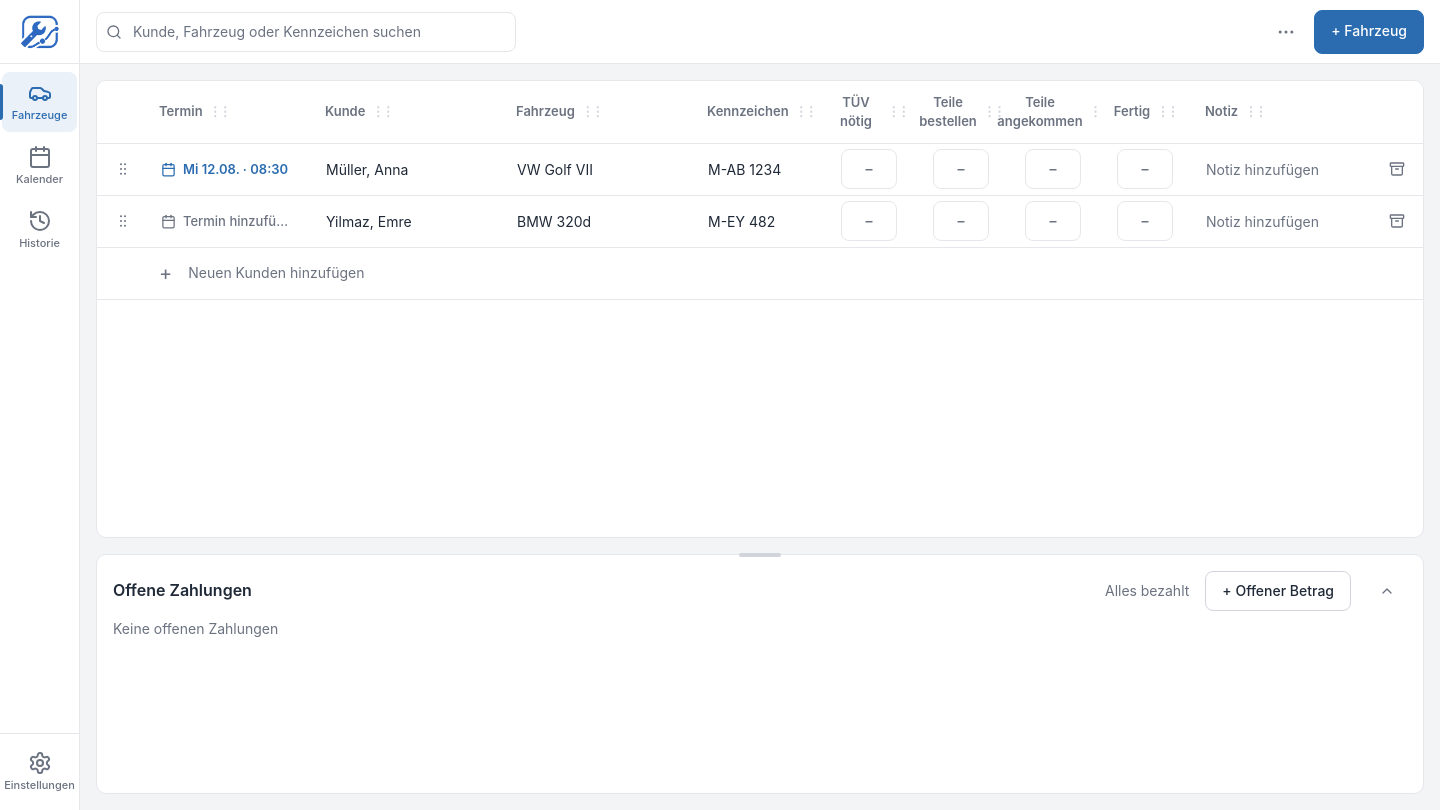
Scenario: Fahrzeugtermine › entfernt einen bestehenden Termin
Expected: the 1st field showing "Müller, Anna" is shown, x1=317 y1=149 x2=496 y2=189
Click the button with aria-label "Termin für Müller, Anna".
click(228, 169)  # box x1=151 y1=149 x2=305 y2=189
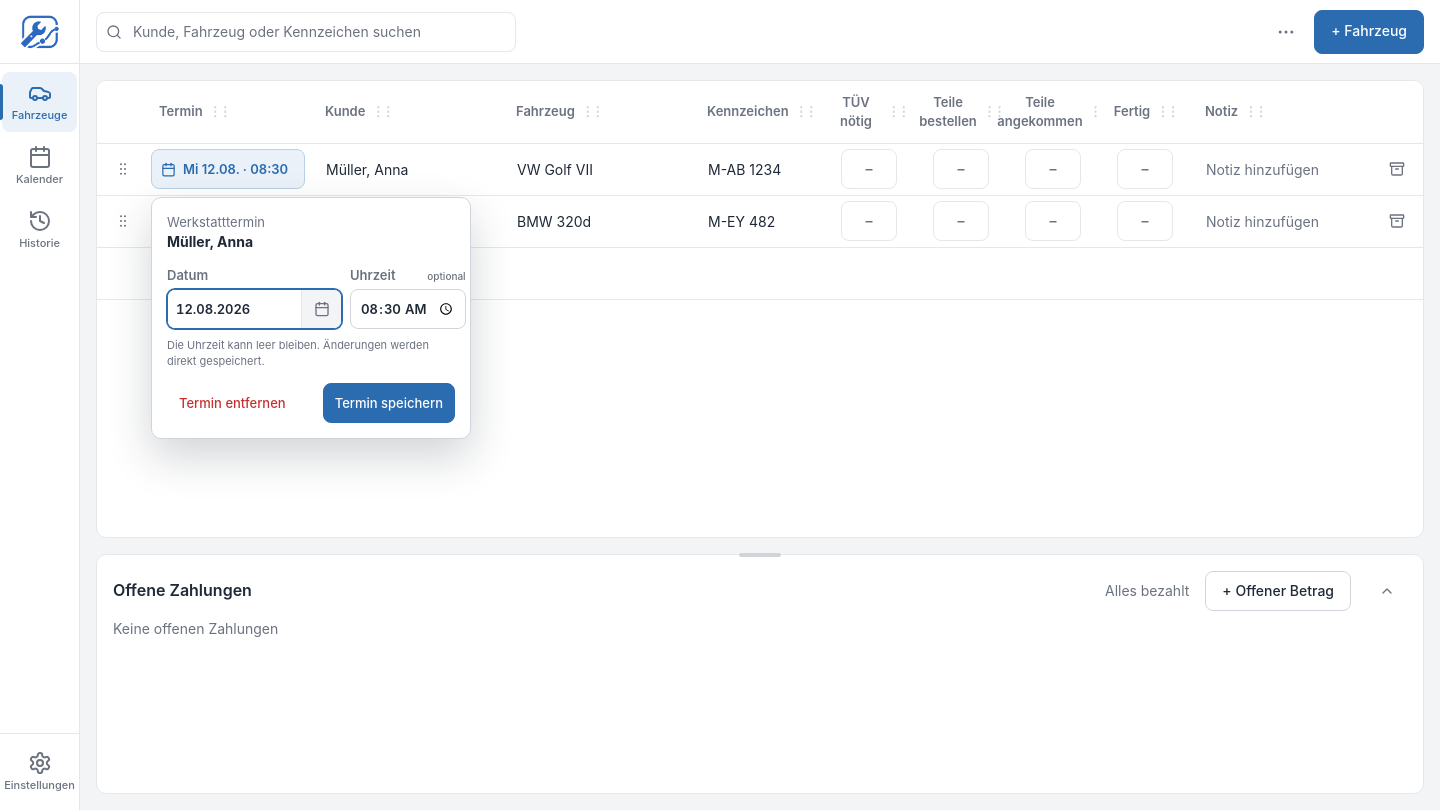
Click the button "Termin entfernen".
click(232, 403)  # box x1=167 y1=383 x2=298 y2=423
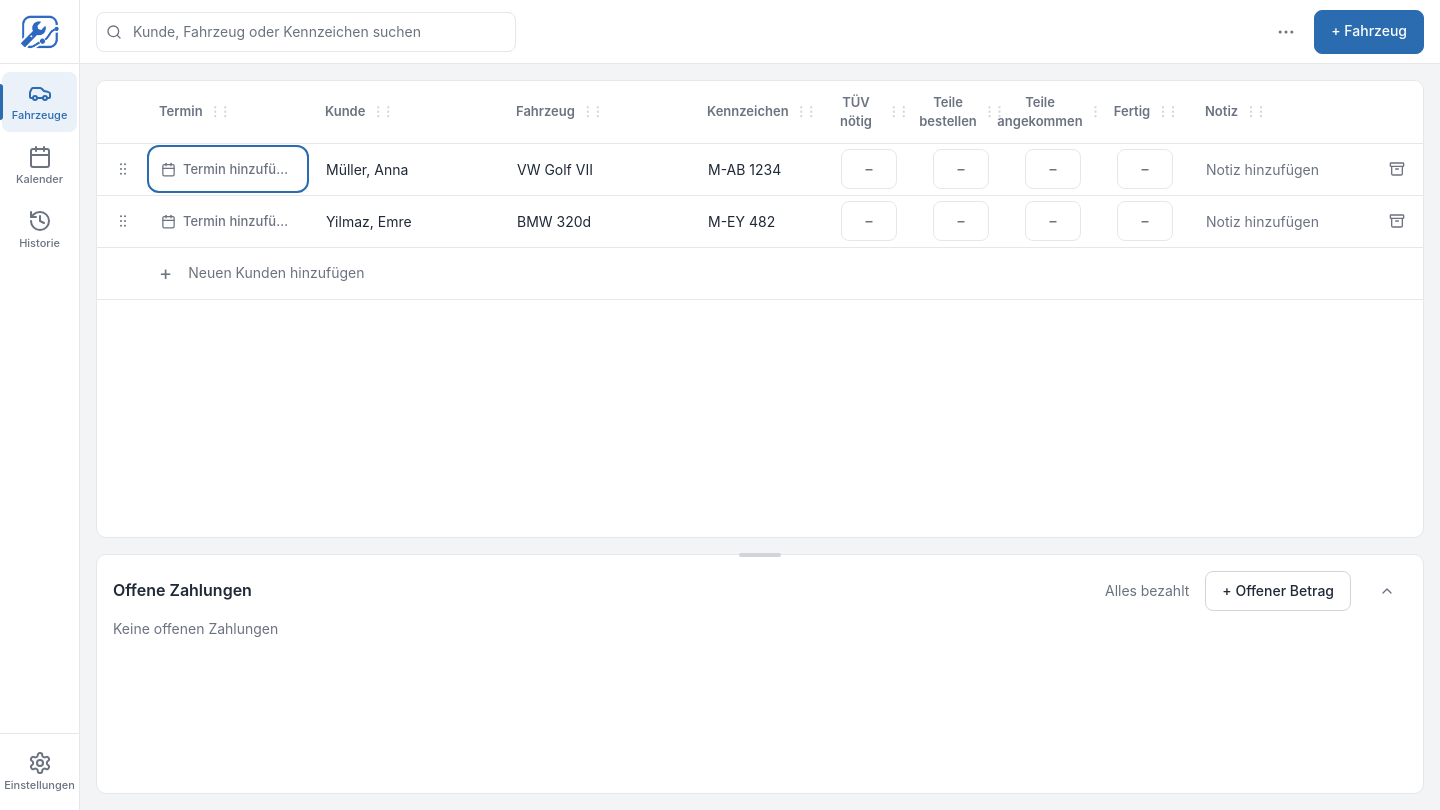
Expected: the button with aria-label "Termin für Müller, Anna" no longer shows "08:30", x1=151 y1=149 x2=305 y2=189
